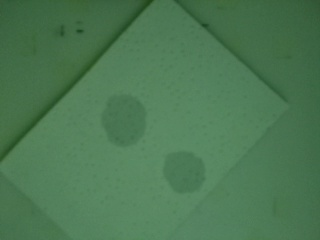Water_detected: (99, 98, 139, 139), (171, 150, 200, 189)
